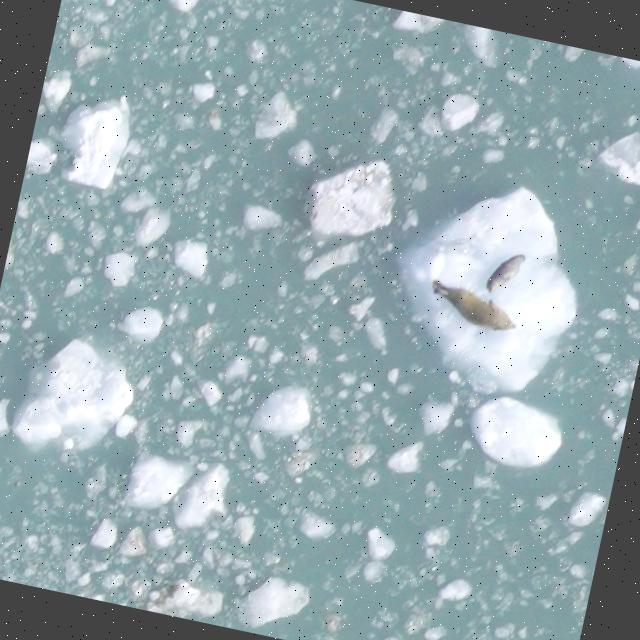seal: (420, 277, 526, 338), (481, 246, 533, 302)
